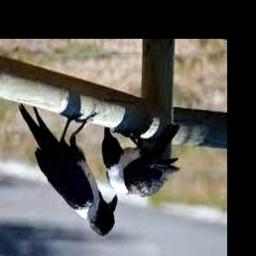Crow: (19, 100, 118, 236), (102, 126, 180, 198)
